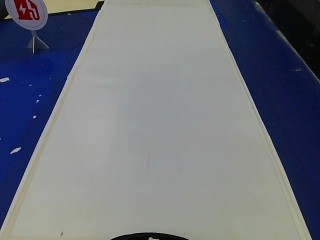battery: (4, 0, 54, 31)
